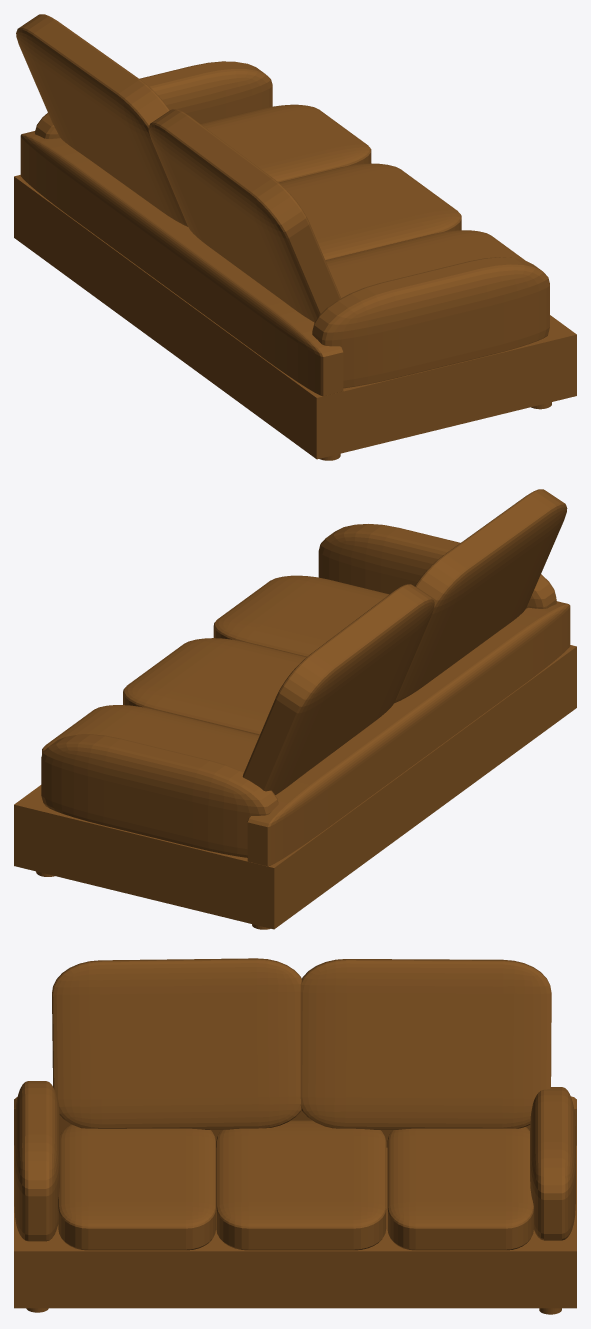
File: couch.fbx
The picture shows the model from 3 angles, top to bottom: view 1: azimuth 30°, elevation 25°; view 2: azimuth 150°, elevation 25°; view 3: azimuth 270°, elevation 25°; orthographic projection. The views are drawn at different scales.
Visible parts, largest first — view 1: Cube.008; view 2: Cube.008; view 3: Cube.008.
Part boxes in pixels (<box>): Cube.008: <box>14,14,576,460</box>; Cube.008: <box>14,489,576,929</box>; Cube.008: <box>14,958,576,1314</box>.
Bounding box in the file's own units: 332 × 284 × 601.
